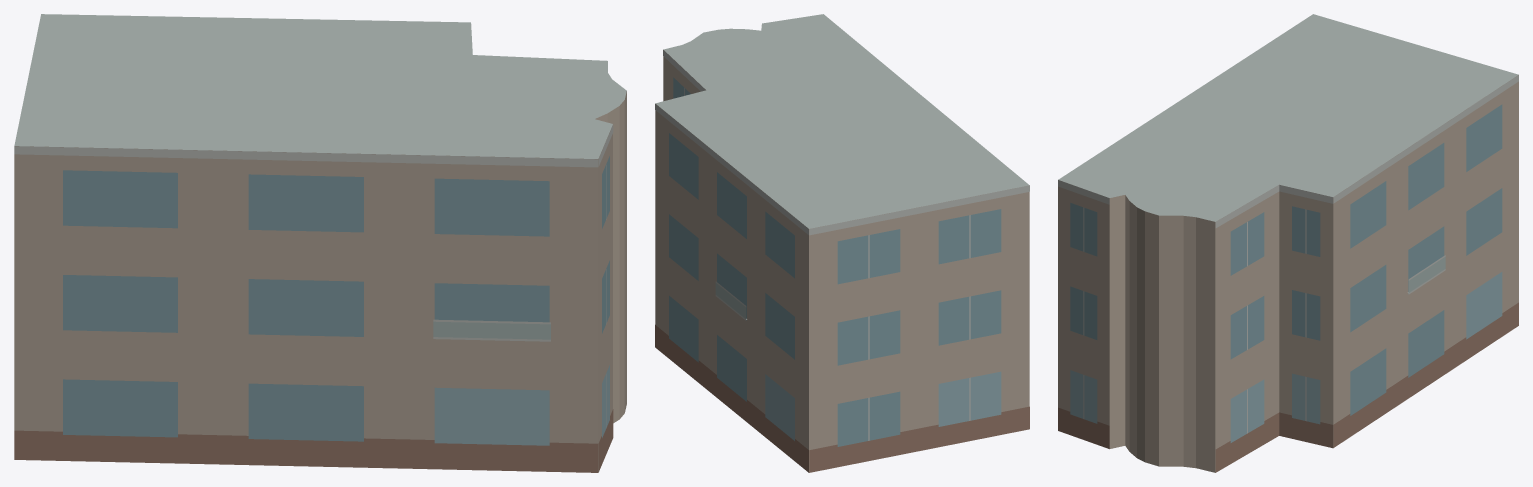
Rendered from survey-upis-32672888.glb.
3 renders of one model, left to right at view 1: azimuth 30°, elevation 25°; view 2: azimuth 150°, elevation 25°; view 3: azimuth 270°, elevation 25°, orthographic. The views are drawn at different scales.
Visible parts, largest first — view 1: survey-upis-32672888.tmp; view 2: survey-upis-32672888.tmp; view 3: survey-upis-32672888.tmp.
Part boxes in pixels (x1,y1,x2,y2): survey-upis-32672888.tmp: (14,14,626,472); survey-upis-32672888.tmp: (655,14,1029,472); survey-upis-32672888.tmp: (1058,14,1518,472).
Size of the model in its own units: 16.26 by 9.15 by 15.23.
